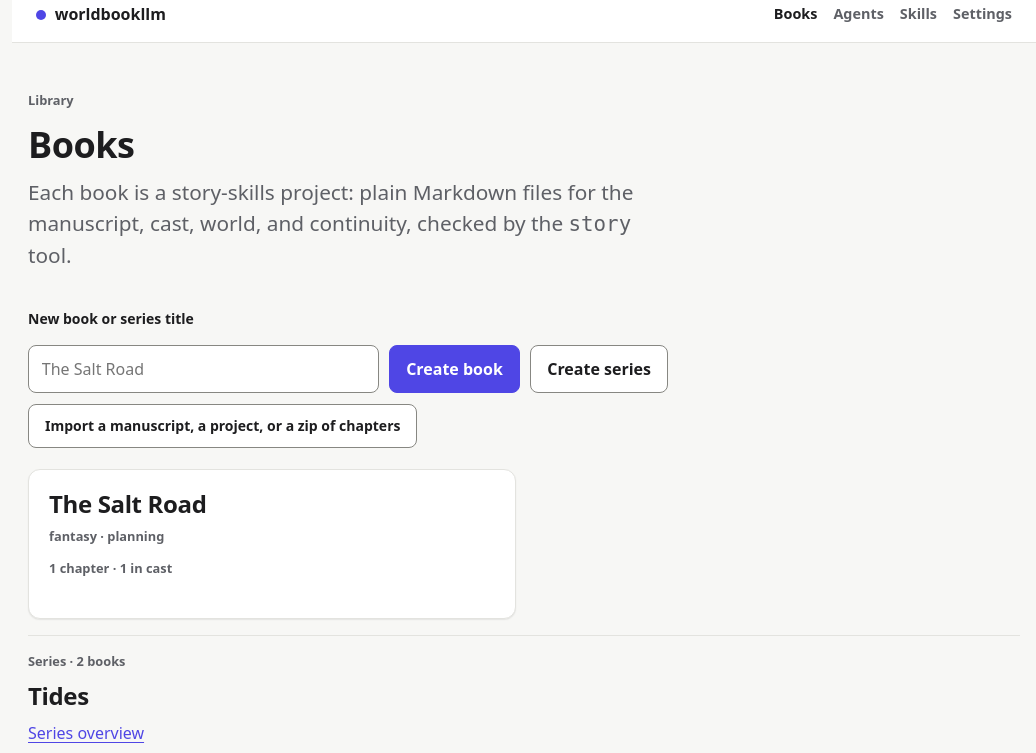
Scenario: book library › gathers a series behind its bible, books in reading order, and creates a series
In the field labelled "New book or series title": (203, 369) top-left (28, 345), bottom-right (379, 393), type "Ember"
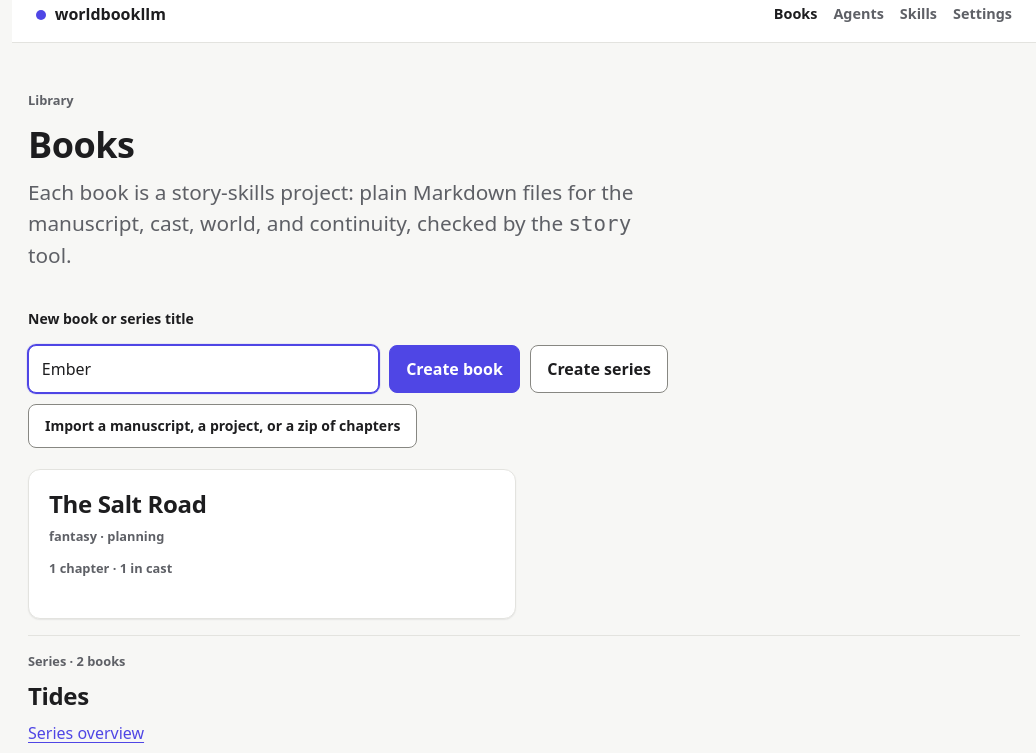
Click the button "Create series": click(599, 369) top-left (530, 345), bottom-right (668, 393)
(page scrolled)
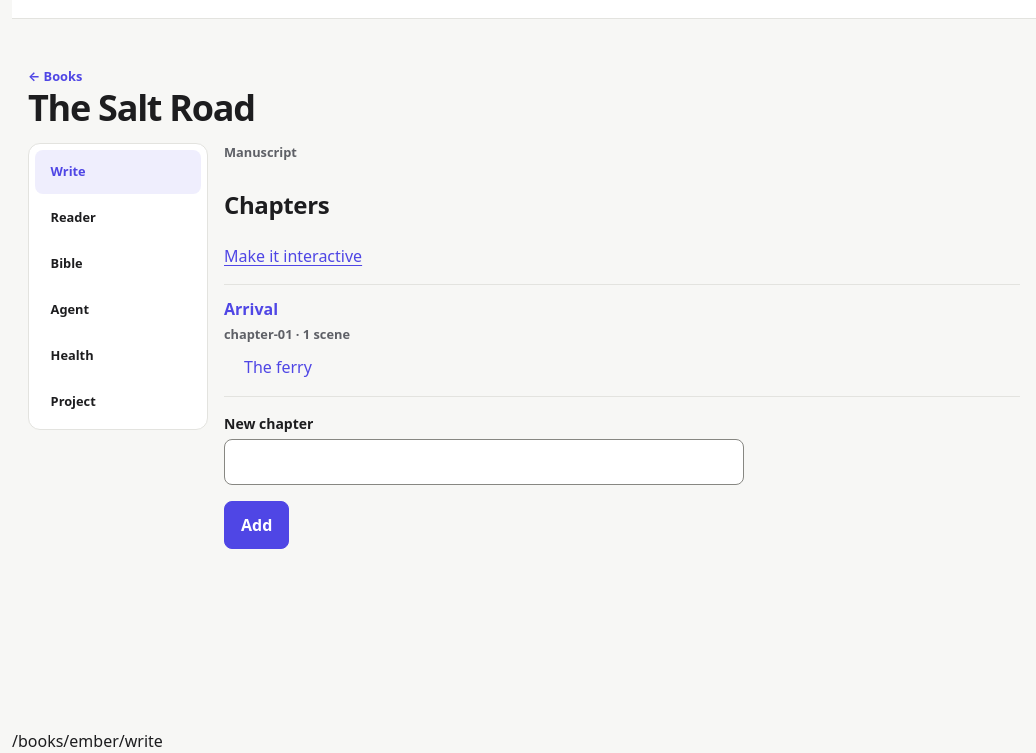
Expected: the text with test id "location" reads "/books/ember/write", top-left (12, 730), bottom-right (163, 752)
